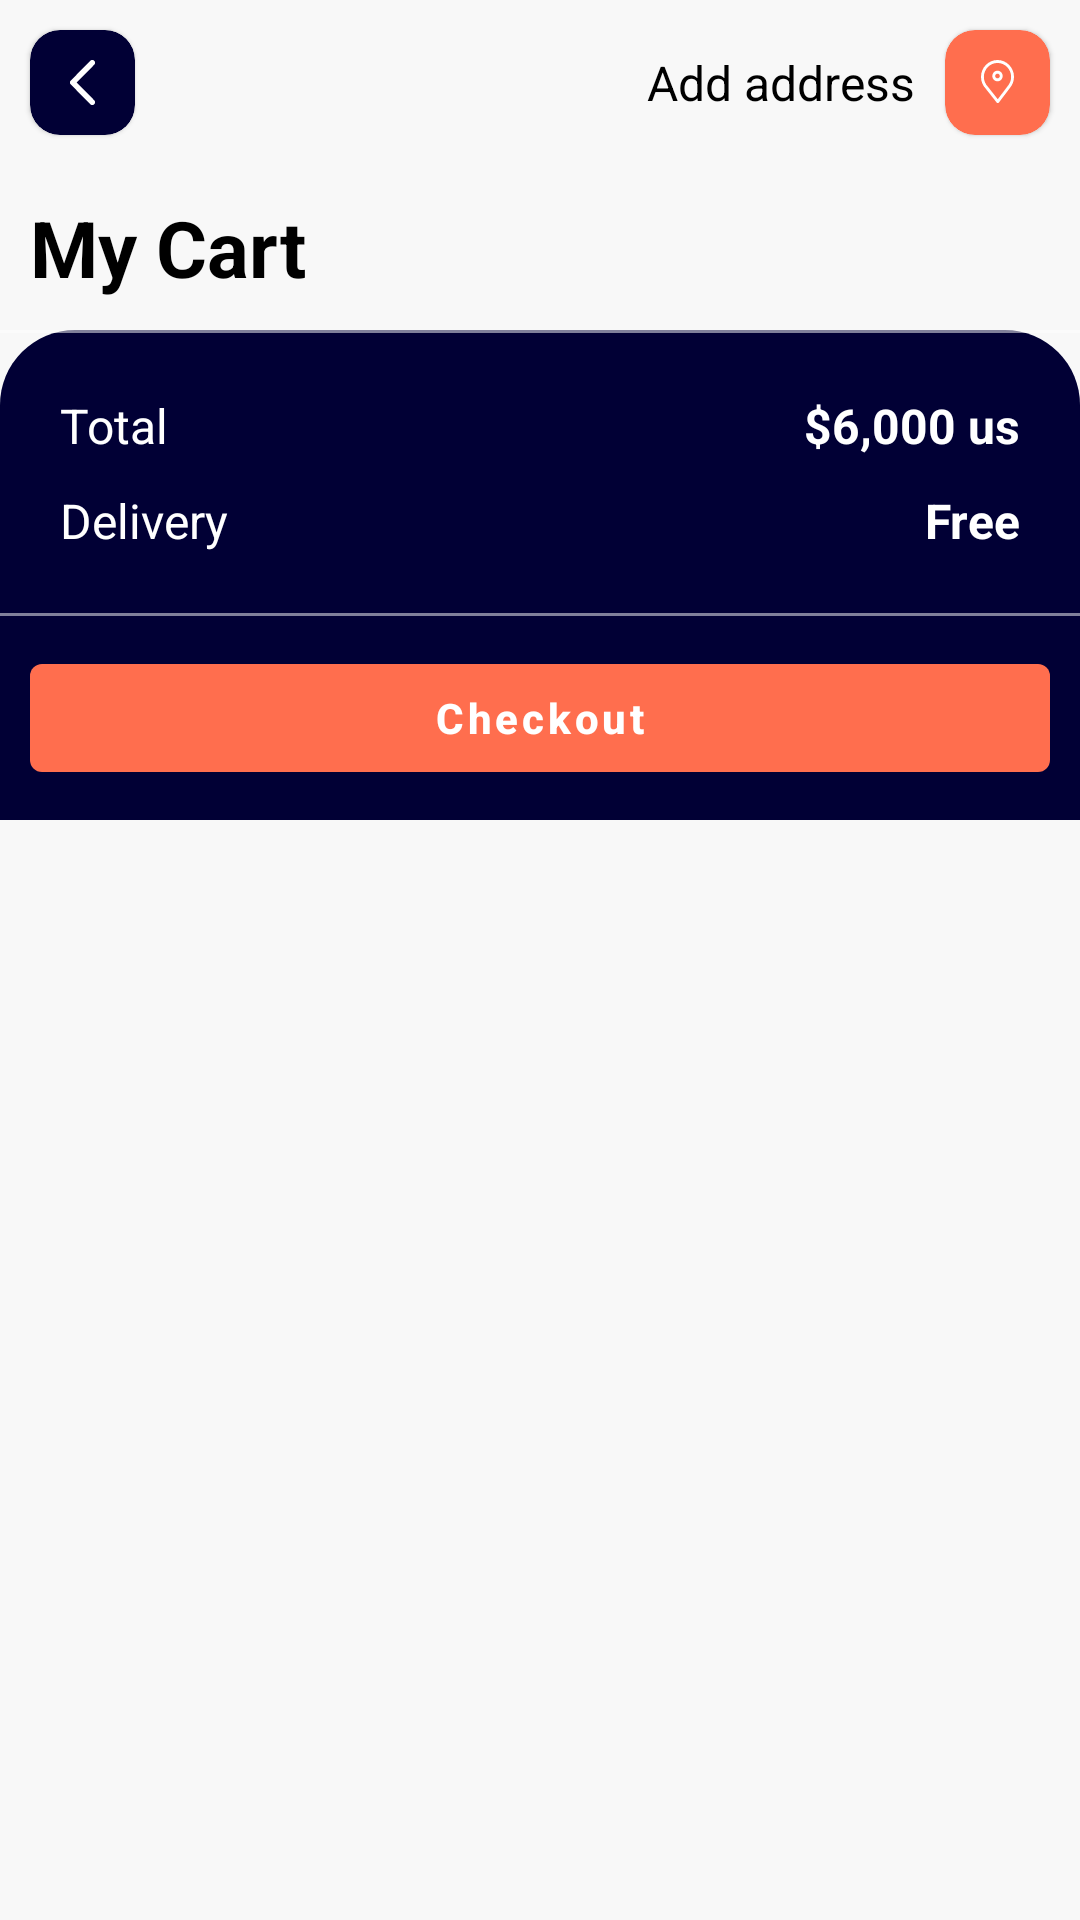

Where icons sit on this 1080×1920 app screen, as (x1, y1, x2, y2):
back: (70, 60, 95, 105)
location: (981, 60, 1014, 103)
